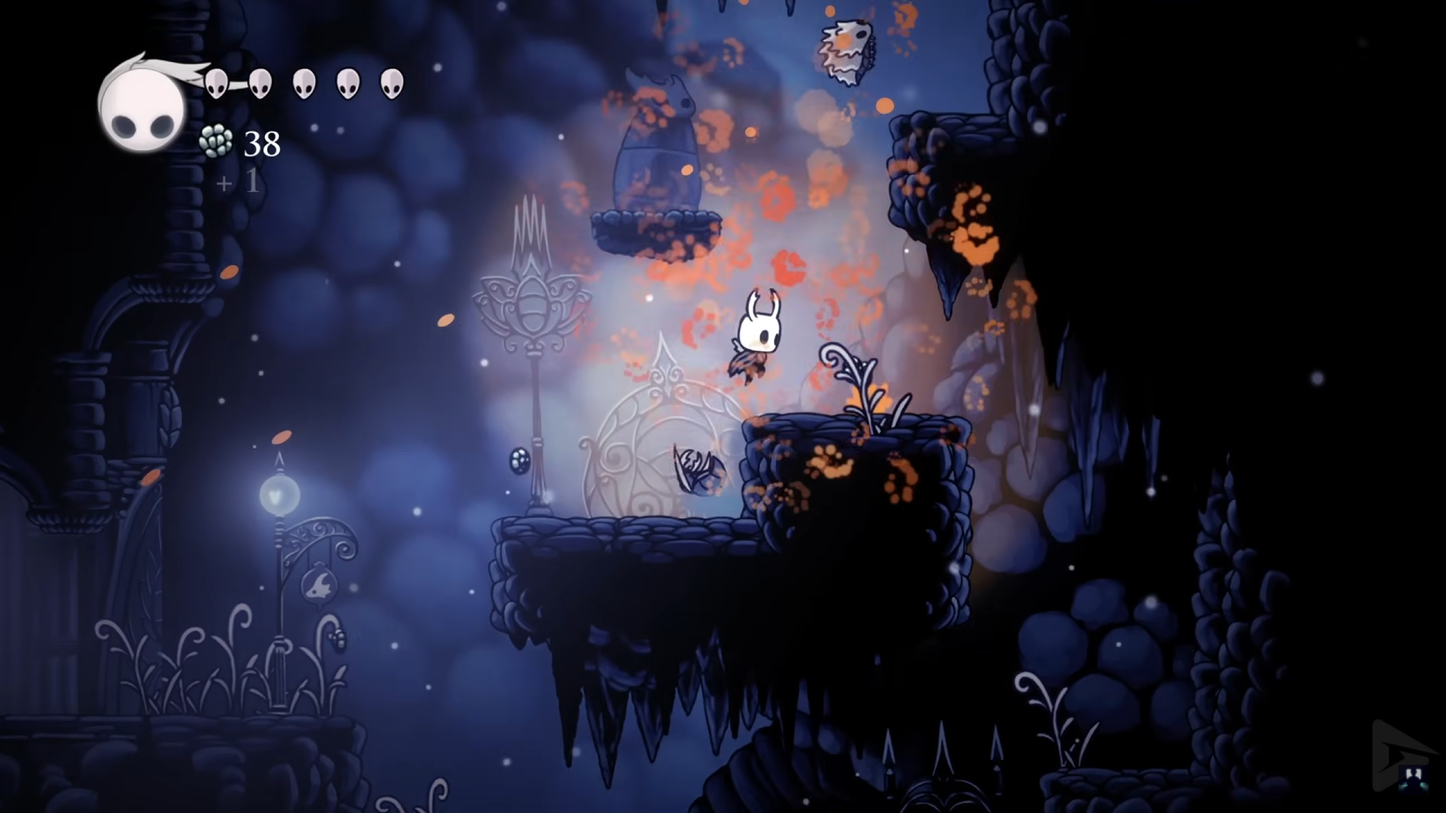HK: (727, 283, 789, 390)
